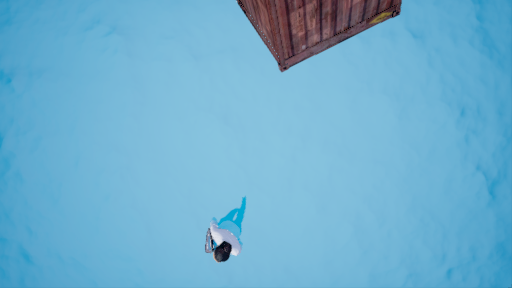person: (197, 200, 264, 264)
